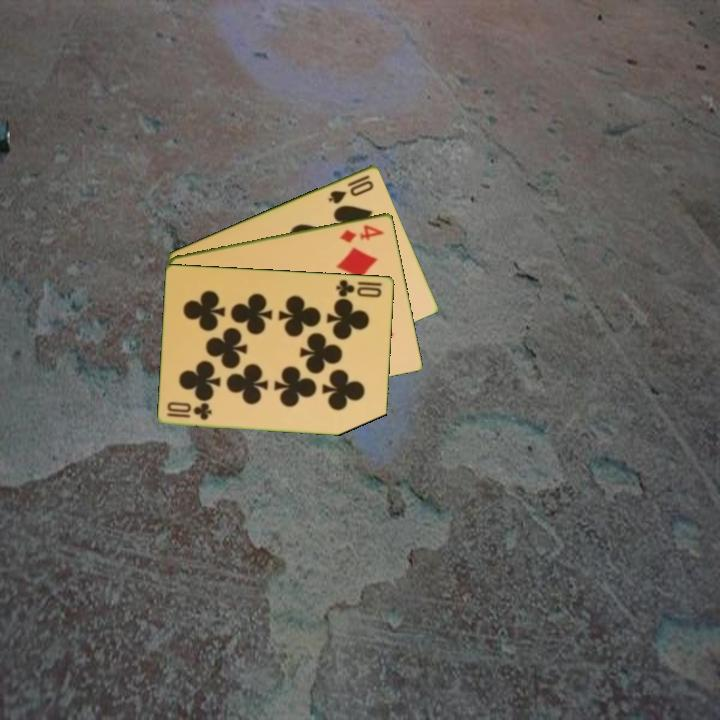10c: (333, 276, 384, 300), (164, 401, 215, 423)
10s: (325, 171, 377, 207)
4d: (336, 221, 387, 246)
